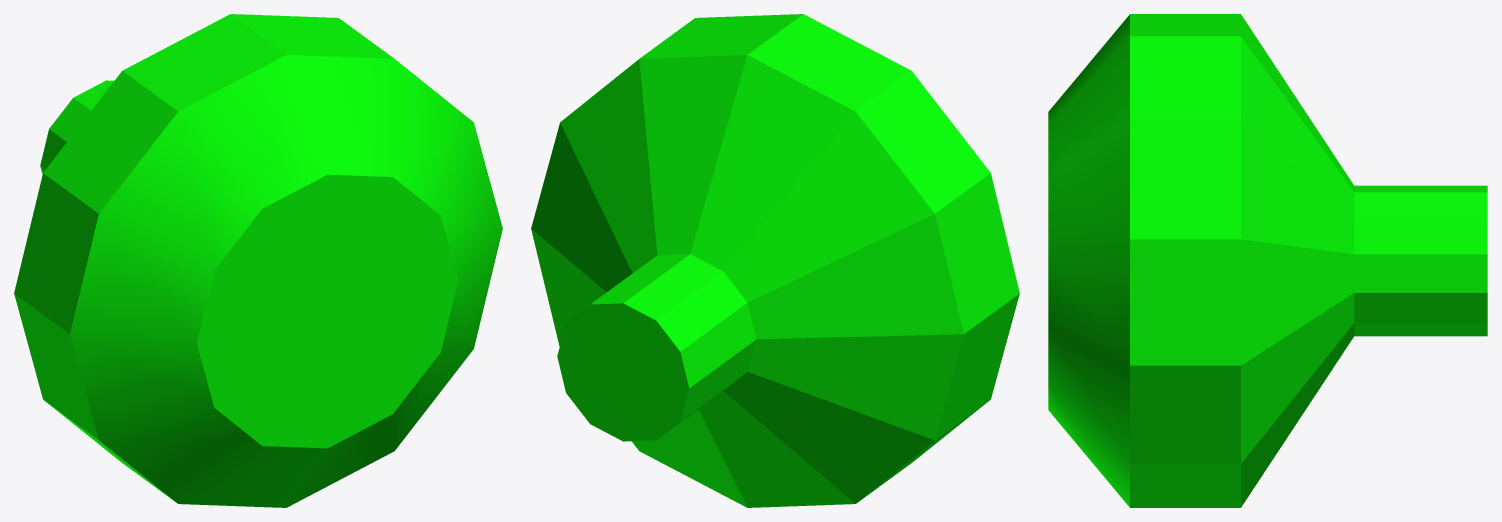
The model's file is SM_Lamp_01_03_Collider.fbx.
3 views of the same model, side by side, from view 1: azimuth 30°, elevation 25°; view 2: azimuth 150°, elevation 25°; view 3: azimuth 270°, elevation 25° (orthographic).
Visible parts, largest first — view 1: SM_Lamp_01_03_Collider; view 2: SM_Lamp_01_03_Collider; view 3: SM_Lamp_01_03_Collider.
Part boxes in pixels (x1,y1,x2,y2): SM_Lamp_01_03_Collider: (14, 14, 502, 507); SM_Lamp_01_03_Collider: (531, 14, 1019, 507); SM_Lamp_01_03_Collider: (1048, 14, 1487, 507).
Size of the model in its own units: 84.79 by 84.79 by 75.08.
